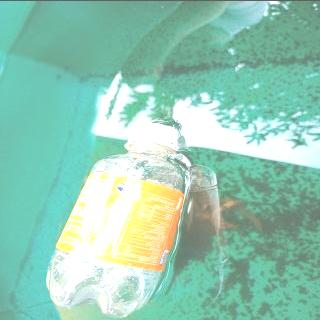bottle: (40, 119, 202, 318)
